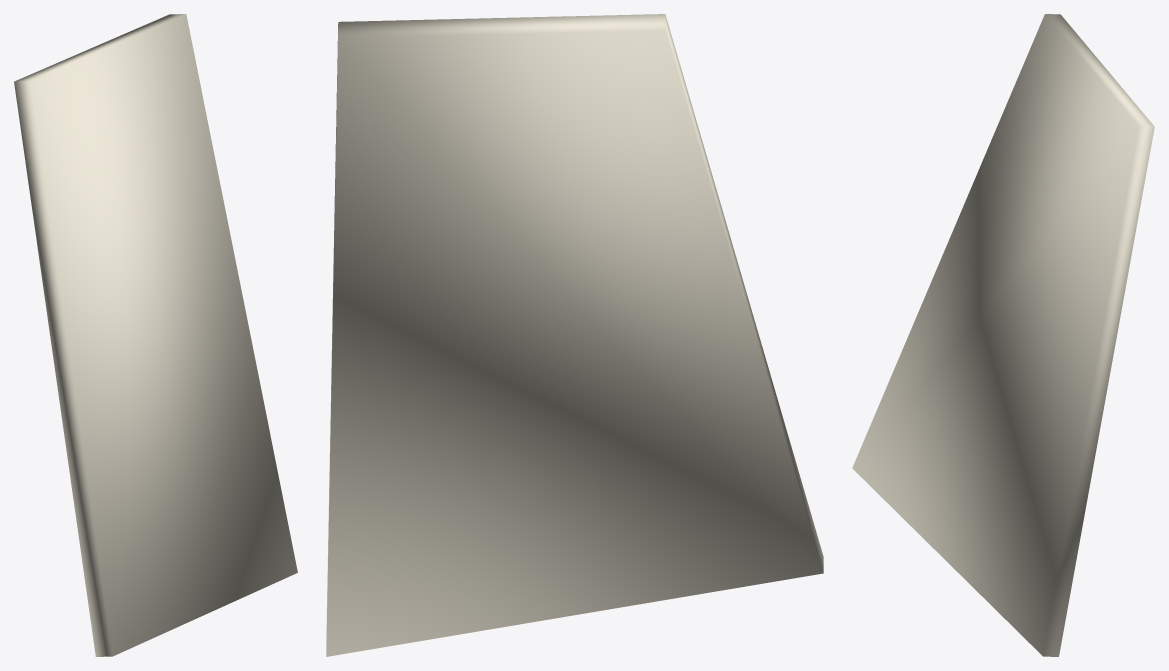
3 renders of one model, left to right at view 1: azimuth 30°, elevation 25°; view 2: azimuth 150°, elevation 25°; view 3: azimuth 270°, elevation 25°, orthographic. The views are drawn at different scales.
Parts seen in each view (by area): view 1: ZA_61a784c9d924d1dc; view 2: ZA_61a784c9d924d1dc; view 3: ZA_61a784c9d924d1dc.
Part boxes in pixels (x1=…): ZA_61a784c9d924d1dc: x1=14, y1=14, x2=297, y2=656; ZA_61a784c9d924d1dc: x1=326, y1=14, x2=823, y2=656; ZA_61a784c9d924d1dc: x1=852, y1=14, x2=1154, y2=656.
Size of the model in its own units: 0.00526 by 0.00953 by 0.00498.
